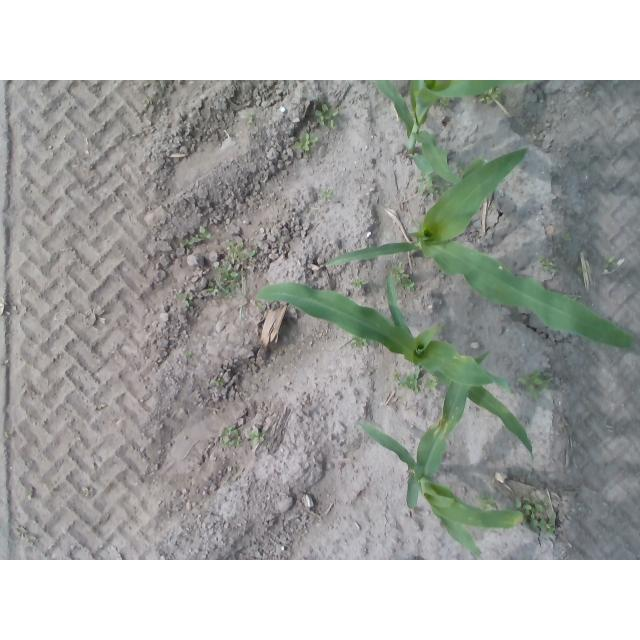Maize: (322, 149, 640, 360), (257, 276, 536, 457), (355, 351, 525, 558), (348, 80, 532, 188)
Weeds: (513, 493, 559, 539), (209, 268, 240, 308), (390, 261, 422, 296), (231, 240, 262, 268), (395, 365, 423, 395), (217, 423, 244, 451), (416, 175, 441, 202), (181, 226, 212, 247), (319, 102, 341, 130), (520, 371, 545, 395), (538, 254, 559, 279), (348, 335, 373, 355), (248, 422, 265, 450), (478, 493, 503, 512), (481, 86, 504, 106), (175, 286, 193, 311), (321, 185, 340, 208), (298, 133, 315, 155), (605, 254, 623, 274), (350, 276, 370, 293), (425, 380, 439, 395), (185, 348, 196, 361), (213, 379, 225, 390), (248, 113, 256, 127)
